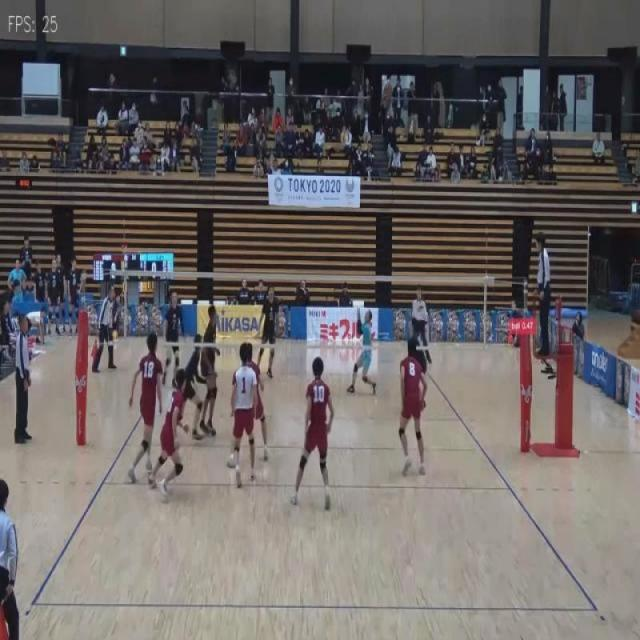volleyball: (340, 130, 348, 144), (112, 328, 118, 339)
